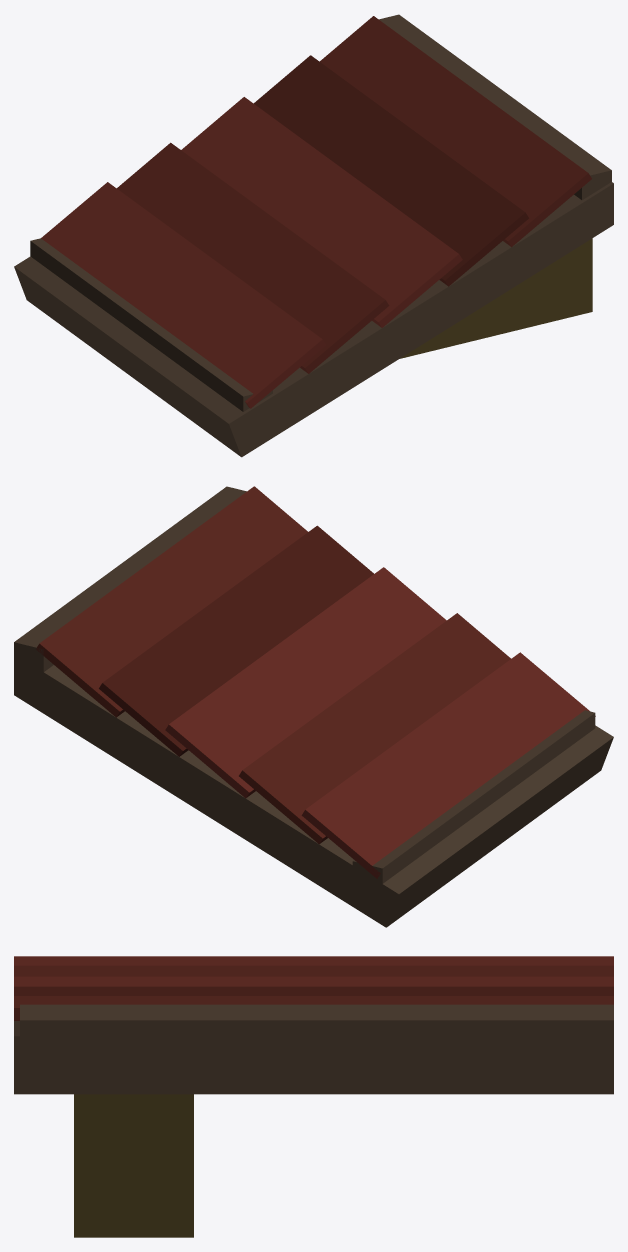
File: A_Roof05.fbx
The picture shows the model from 3 angles, top to bottom: view 1: azimuth 30°, elevation 25°; view 2: azimuth 150°, elevation 25°; view 3: azimuth 270°, elevation 25°; orthographic projection. The views are drawn at different scales.
Visible parts, largest first — view 1: A_Roof05; view 2: A_Roof05; view 3: A_Roof05.
Boxes of the visible parts, x1,y1,x2,y2 form: A_Roof05: (14,14,613,457); A_Roof05: (14,486,613,927); A_Roof05: (14,956,613,1237).
Bounding box in the file's own units: 103 × 51.27 × 100.
